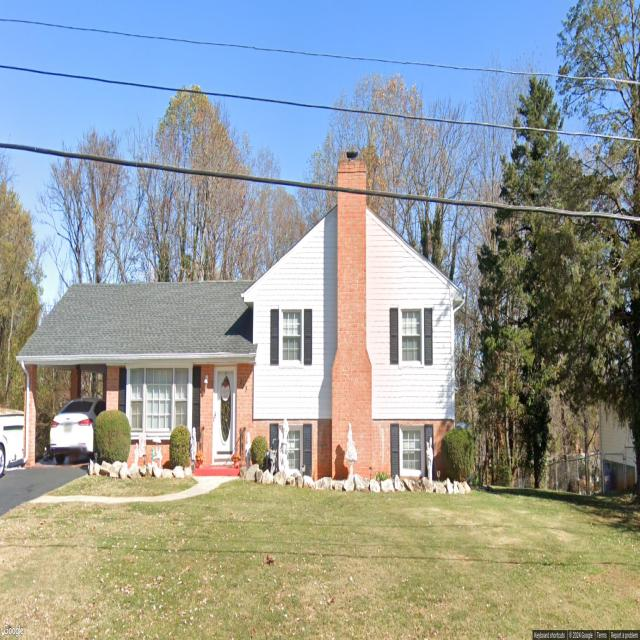House: (16, 151, 468, 480), (597, 374, 640, 497)
